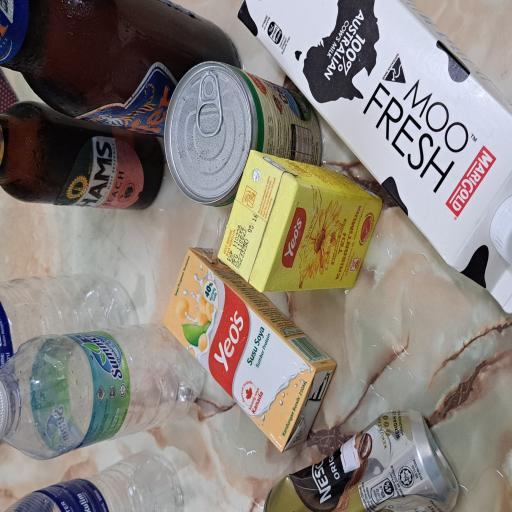can: (232, 220, 336, 432), (0, 349, 77, 512)
drink carton: (146, 315, 384, 512), (50, 219, 198, 447), (164, 288, 272, 512)
glass bottle: (228, 0, 308, 215)
plastic bottle: (38, 9, 140, 277), (87, 0, 183, 182), (0, 3, 49, 266)
pop tab: (282, 258, 327, 296)
